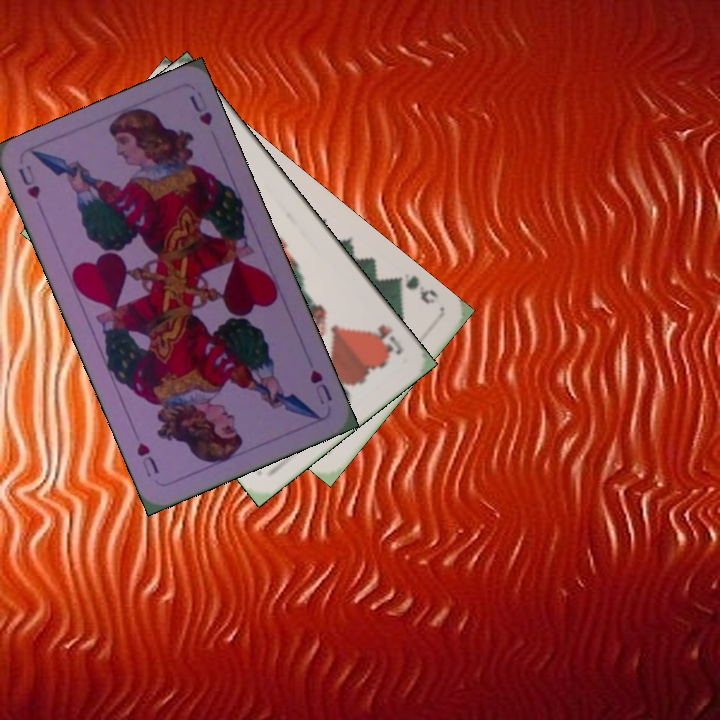G9: (389, 271, 441, 307)
HO: (365, 320, 407, 359)
HU: (306, 366, 335, 407), (14, 161, 43, 202)
